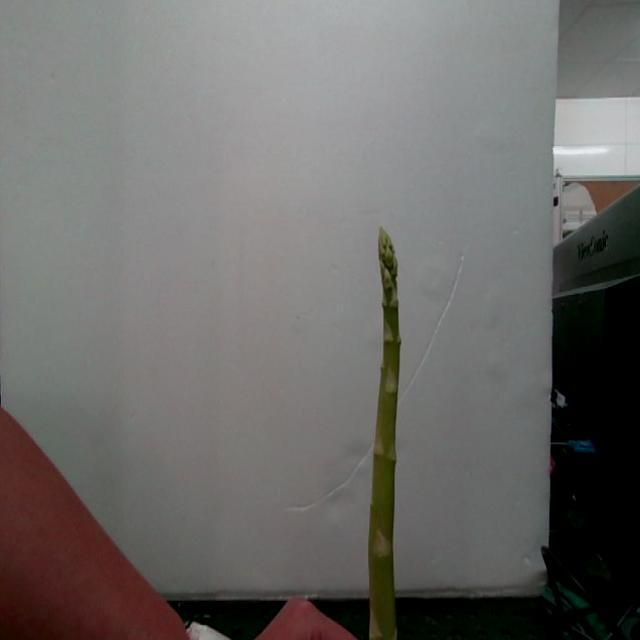aspargus: (368, 230, 402, 640)
